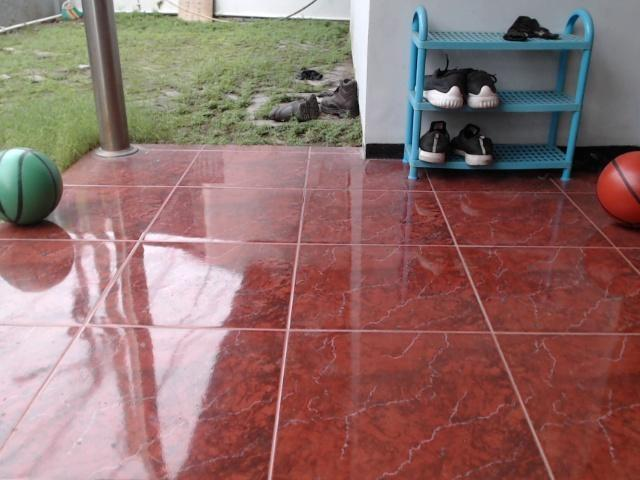Sports-Ball: (0, 144, 68, 233), (592, 150, 640, 227)
